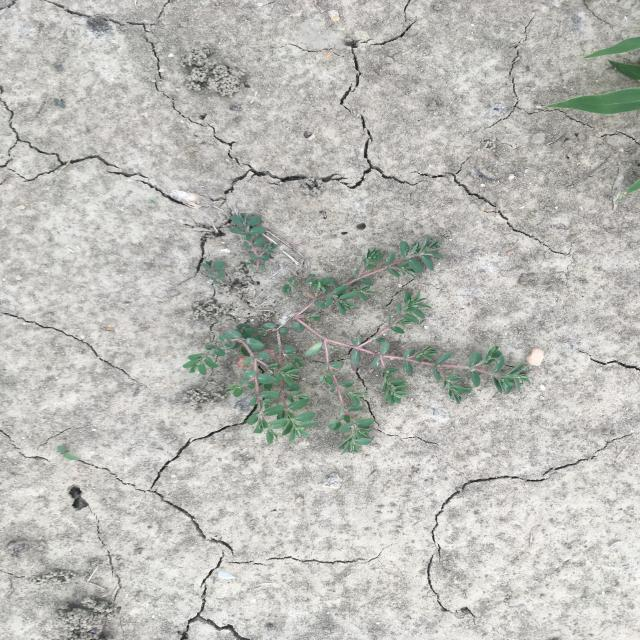SpottedSpurge: (180, 211, 534, 456)
